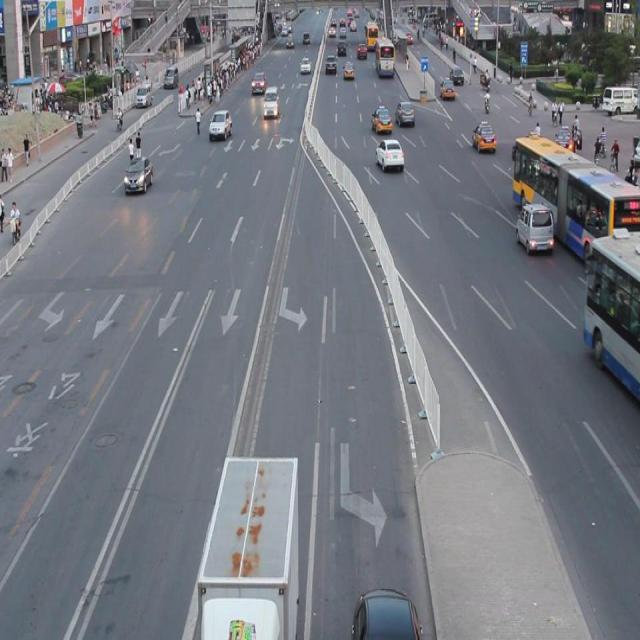bus: (199, 452, 299, 640)
car: (353, 585, 422, 640), (515, 201, 552, 252), (124, 156, 154, 194)
van: (513, 137, 640, 266), (582, 233, 640, 399)
